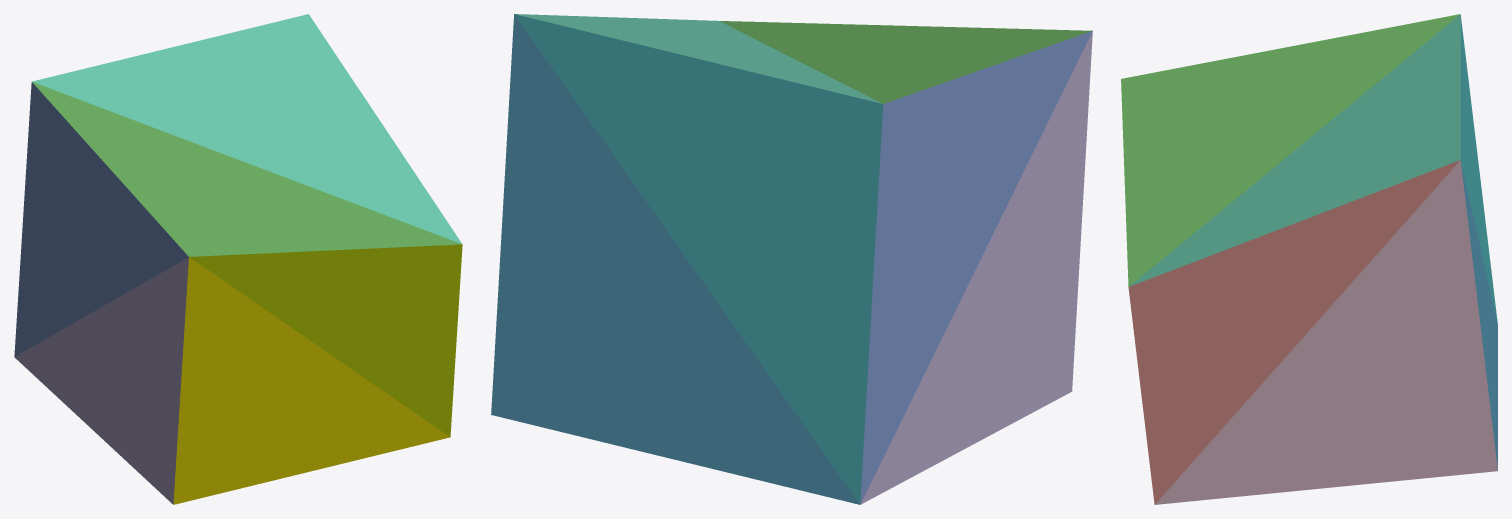
File: cube_dented_rotated2.gltf
3 renders of one model, left to right at view 1: azimuth 30°, elevation 25°; view 2: azimuth 150°, elevation 25°; view 3: azimuth 270°, elevation 25°, orthographic. The views are drawn at different scales.
Visible parts, largest first — view 1: Cube.002; view 2: Cube.002; view 3: Cube.002.
Part boxes in pixels (left/top/right/bottom): Cube.002: left=14, top=14, right=462, bottom=504; Cube.002: left=491, top=14, right=1092, bottom=504; Cube.002: left=1121, top=14, right=1497, bottom=504.
Size of the model in its own units: 1 by 1.1 by 1.09.
